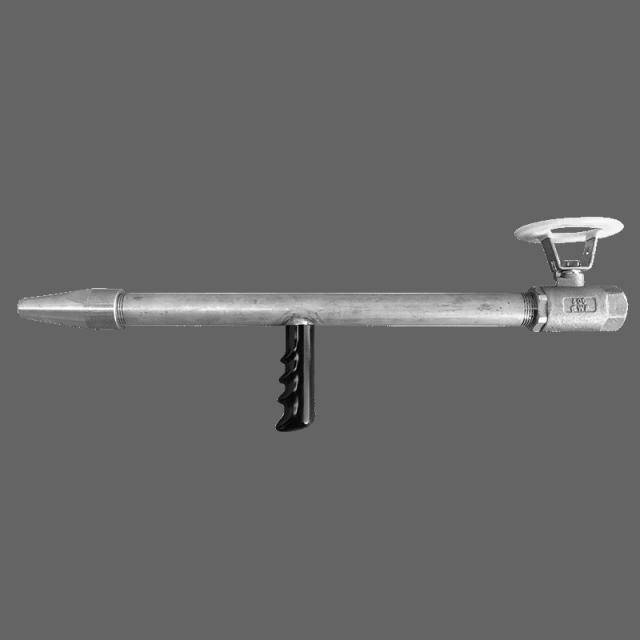Lancher: (12, 206, 568, 479)
